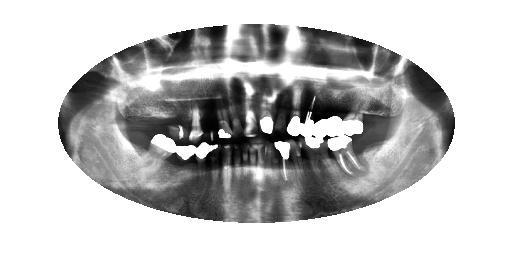Fillings: (141, 135, 175, 170), (339, 103, 370, 135), (304, 136, 329, 175), (175, 144, 200, 175), (197, 141, 219, 175), (322, 102, 340, 136), (288, 96, 301, 139), (259, 99, 273, 135), (301, 101, 313, 137)
Implant: (329, 136, 358, 176), (273, 140, 294, 180)
